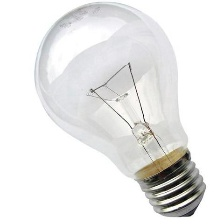light_bulb: (31, 0, 208, 220)
